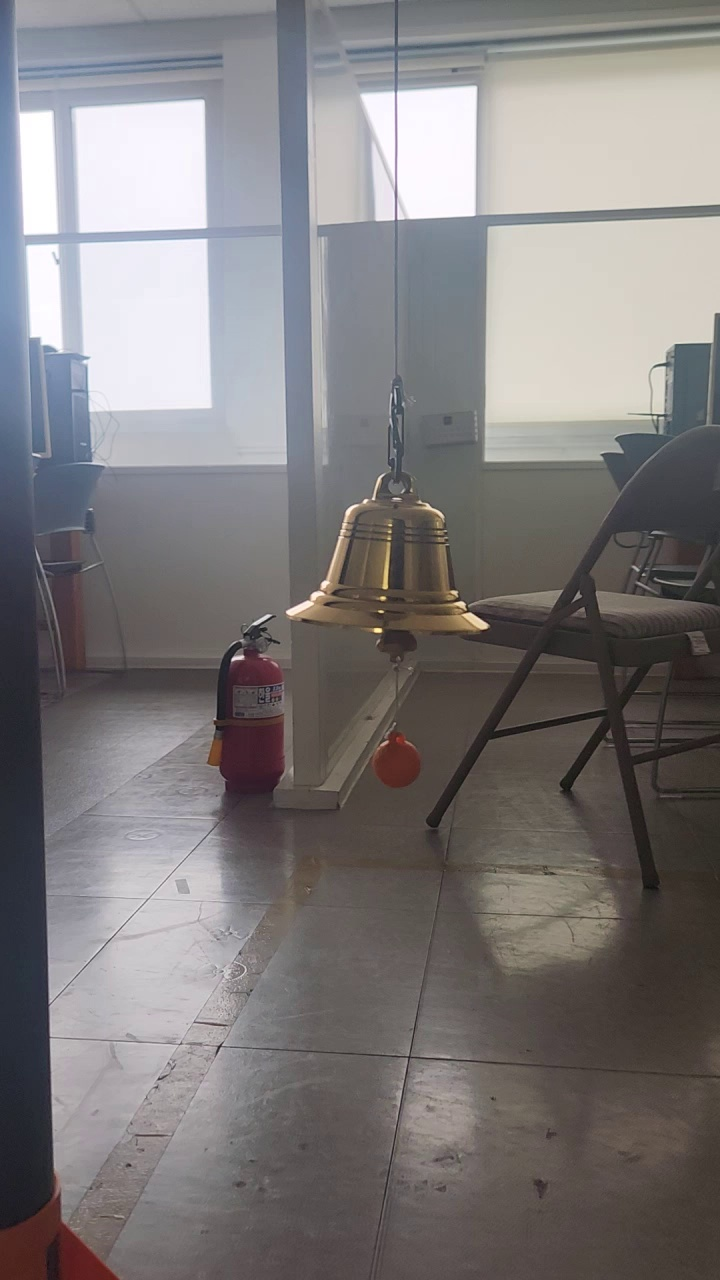bell: (283, 468, 493, 642)
pole: (1, 0, 57, 1198)
